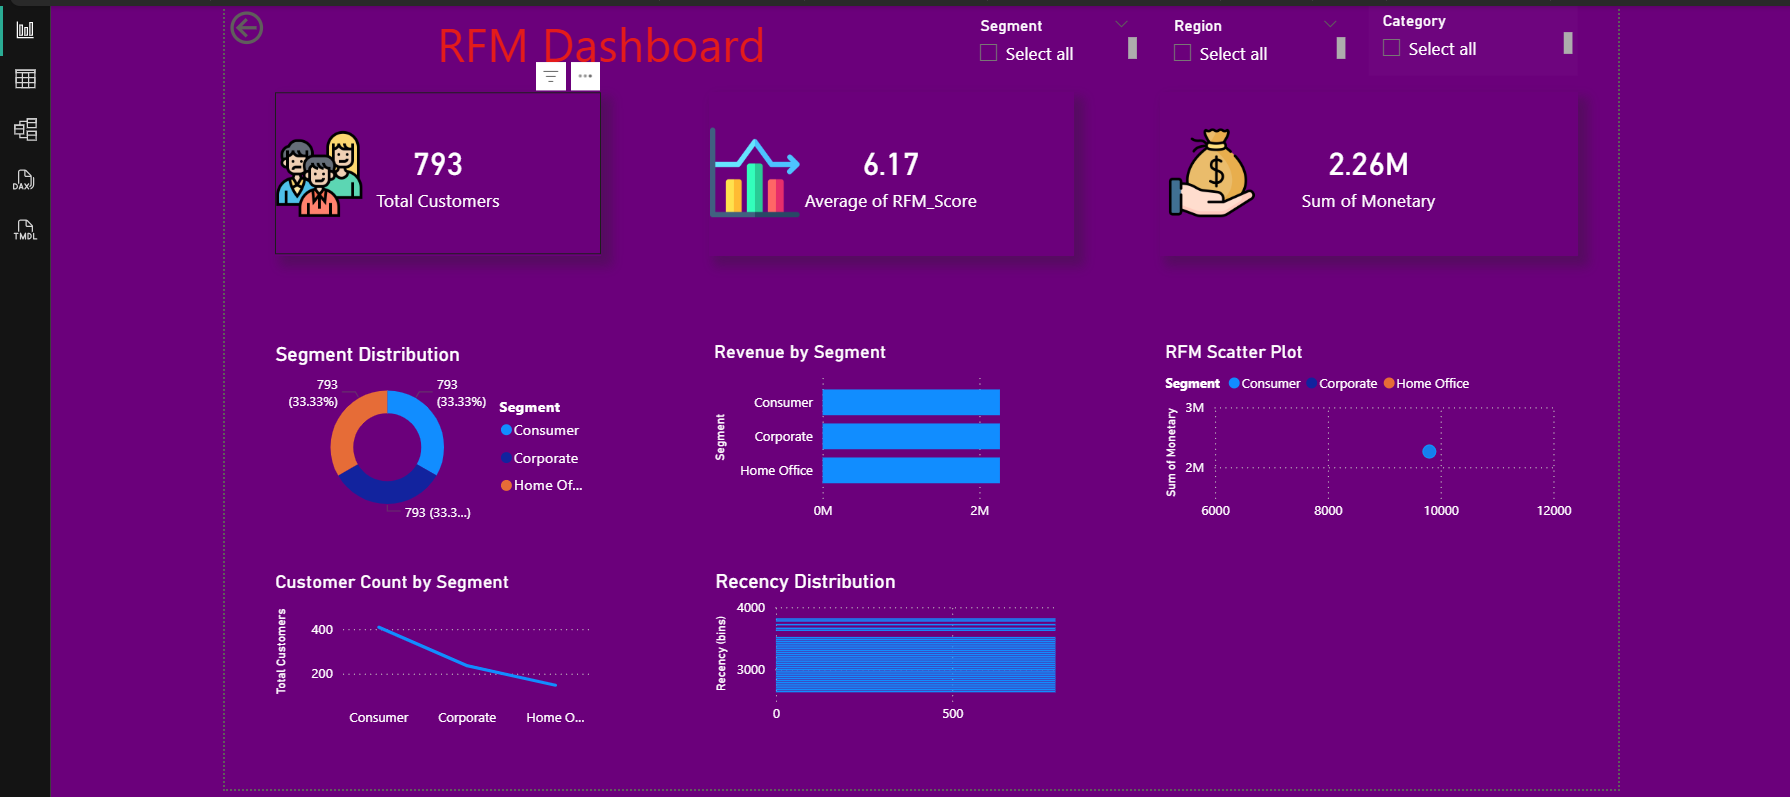

Layout of this report page (visuals, bound fields, positions):
{"tool":"powerbi","page":{"name":"RFM Dashboard","canvas":[1280,720],"ordinal":1},"visuals":[{"type":"textbox","box":[10,0,671.2,68.8],"z":0},{"type":"donutChart","title":"Segment Distribution","fields":{"Category":["train (2).Segment"],"Y":["CountNonNull(RFM_Table.Customer ID)"]},"box":[41.2,308.8,305,172.5],"z":1000},{"type":"barChart","title":"Revenue by Segment","fields":{"Y":["Sum(RFM_Table.Monetary)"],"Category":["train (2).Segment"]},"box":[445,307.5,335,173.8],"z":2000},{"type":"scatterChart","title":"RFM Scatter Plot","fields":{"X":["Sum(RFM_Table.Frequency)"],"Y":["Sum(RFM_Table.Monetary)"],"Size":["Sum(RFM_Table.Monetary)"],"Series":["train (2).Segment"]},"box":[858.8,307.5,383.8,173.8],"z":3000},{"type":"card","fields":{"Values":["train (2).Total Customers"]},"box":[46.2,78.8,300,150],"z":4000},{"type":"card","fields":{"Values":["Avg(RFM_Table.RFM_Score)"]},"box":[445,78.8,335,150],"z":5000},{"type":"card","fields":{"Values":["Sum(RFM_Table.Monetary)"]},"box":[858.8,78.8,383.8,150],"z":6000},{"type":"lineChart","title":"Customer Count by Segment","fields":{"Y":["train (2).Total Customers"],"Category":["train (2).Segment"]},"box":[41.2,518.8,305,150],"z":7000},{"type":"clusteredBarChart","title":"Recency Distribution","fields":{"Y":["train (2).Total Customers"],"Category":["RFM_Table.Recency (bins)"]},"box":[445.4,518.6,334.9,150],"z":7001},{"type":"image","box":[46.5,79.1,81.4,150],"z":7002},{"type":"slicer","fields":{"Values":["RFM_Table.Segment"]},"box":[681.4,4.7,161.6,59.3],"z":7003},{"type":"actionButton","box":[0,0,100,40],"z":7004},{"type":"slicer","fields":{"Values":["train (2).Region"]},"box":[859.3,4.7,175.6,59.3],"z":7005},{"type":"slicer","fields":{"Values":["train (2).Category"]},"box":[1051.2,0,191.9,64],"z":7006},{"type":"image","box":[866.3,77.9,81.4,150],"z":7007},{"type":"image","box":[445.4,77.9,82.6,150],"z":7008}]}

Visuals, with their boxes on the page's 1280x720 design canvas (x1, y1, x2, y2). These are canvas units, not pixel positions in the 1790x797 screenshot, which may show the page scaled, cropped or inside an application window:
textbox: x1=10, y1=0, x2=681, y2=69
"Segment Distribution" donutChart: x1=41, y1=309, x2=346, y2=481
"Revenue by Segment" barChart: x1=445, y1=308, x2=780, y2=481
"RFM Scatter Plot" scatterChart: x1=859, y1=308, x2=1243, y2=481
card - train (2).Total Customers: x1=46, y1=79, x2=346, y2=229
card - Avg(RFM_Table.RFM_Score): x1=445, y1=79, x2=780, y2=229
card - Sum(RFM_Table.Monetary): x1=859, y1=79, x2=1243, y2=229
"Customer Count by Segment" lineChart: x1=41, y1=519, x2=346, y2=669
"Recency Distribution" clusteredBarChart: x1=445, y1=519, x2=780, y2=669
image: x1=46, y1=79, x2=128, y2=229
slicer - RFM_Table.Segment: x1=681, y1=5, x2=843, y2=64
actionButton: x1=0, y1=0, x2=100, y2=40
slicer - train (2).Region: x1=859, y1=5, x2=1035, y2=64
slicer - train (2).Category: x1=1051, y1=0, x2=1243, y2=64
image: x1=866, y1=78, x2=948, y2=228
image: x1=445, y1=78, x2=528, y2=228
